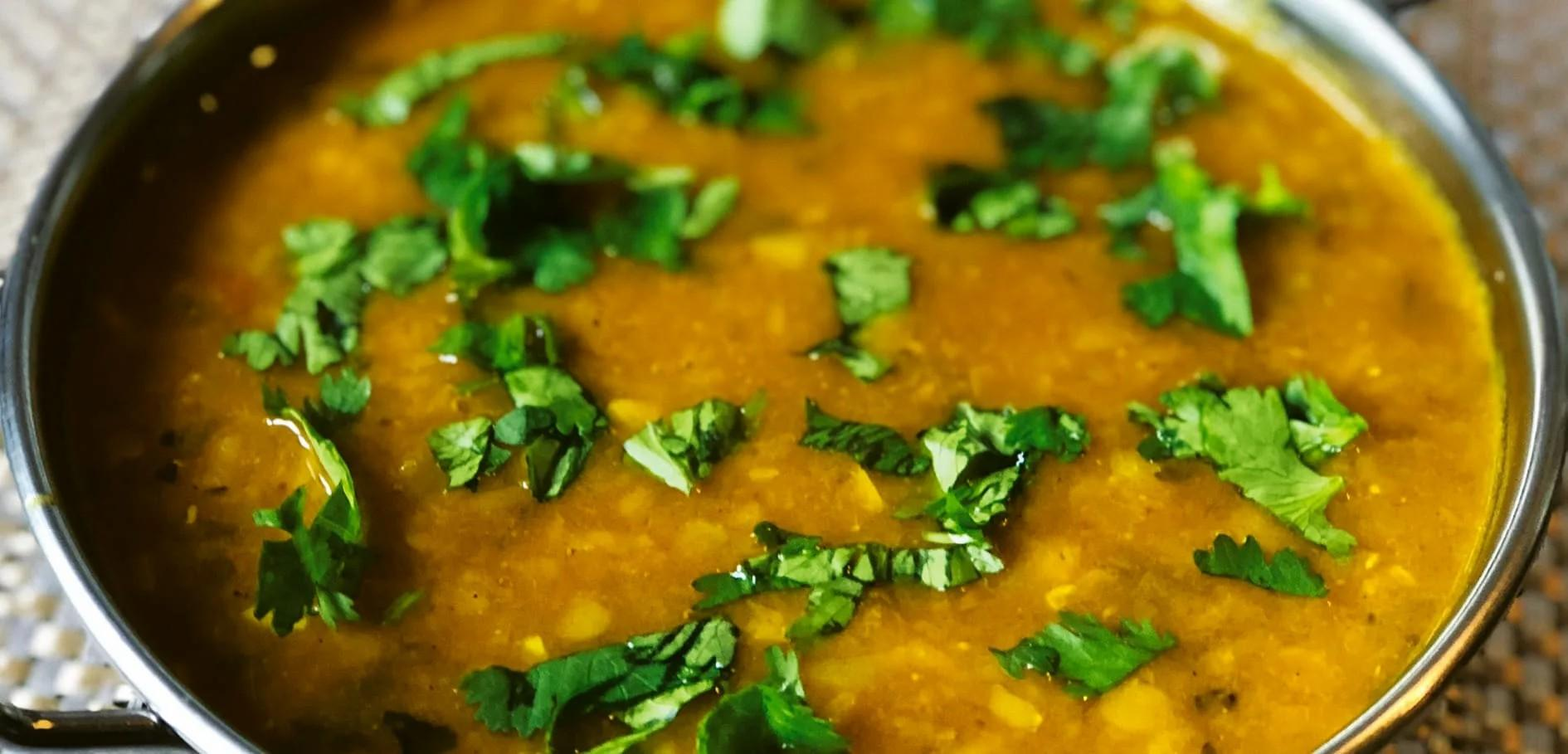Dal: (57, 0, 1498, 754)
